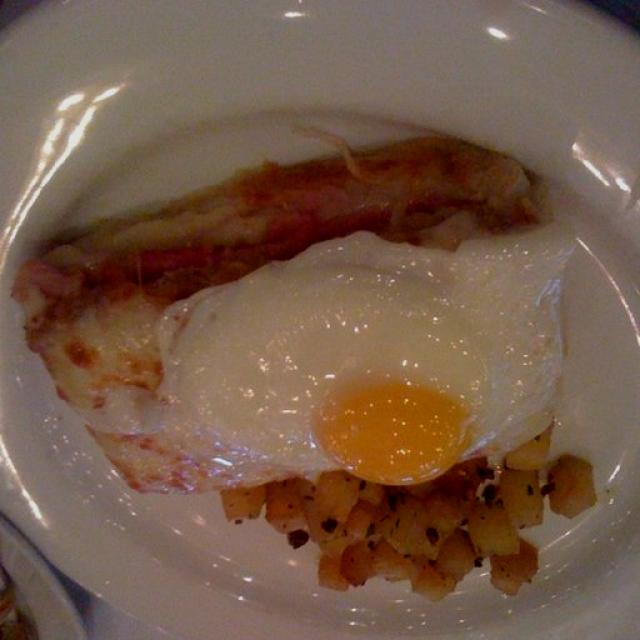telur ceplok: (168, 219, 579, 484)
